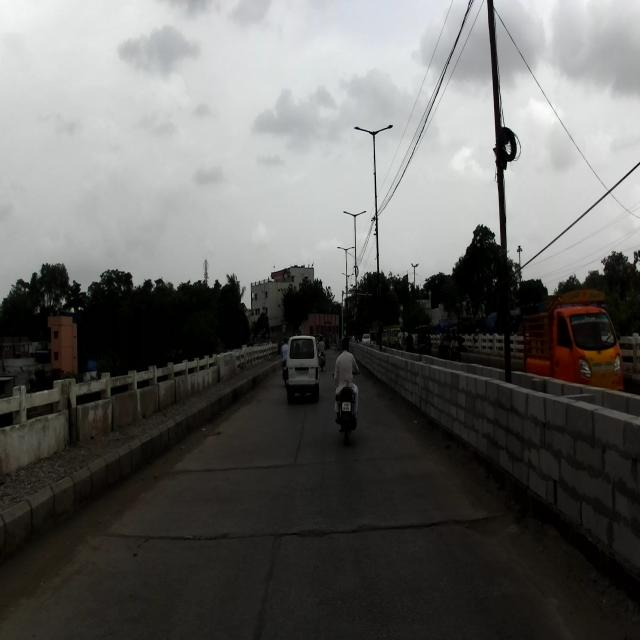Car_Maruti-Suzuki: (285, 334, 319, 408)
motorcycle_Honda: (332, 366, 362, 445)
